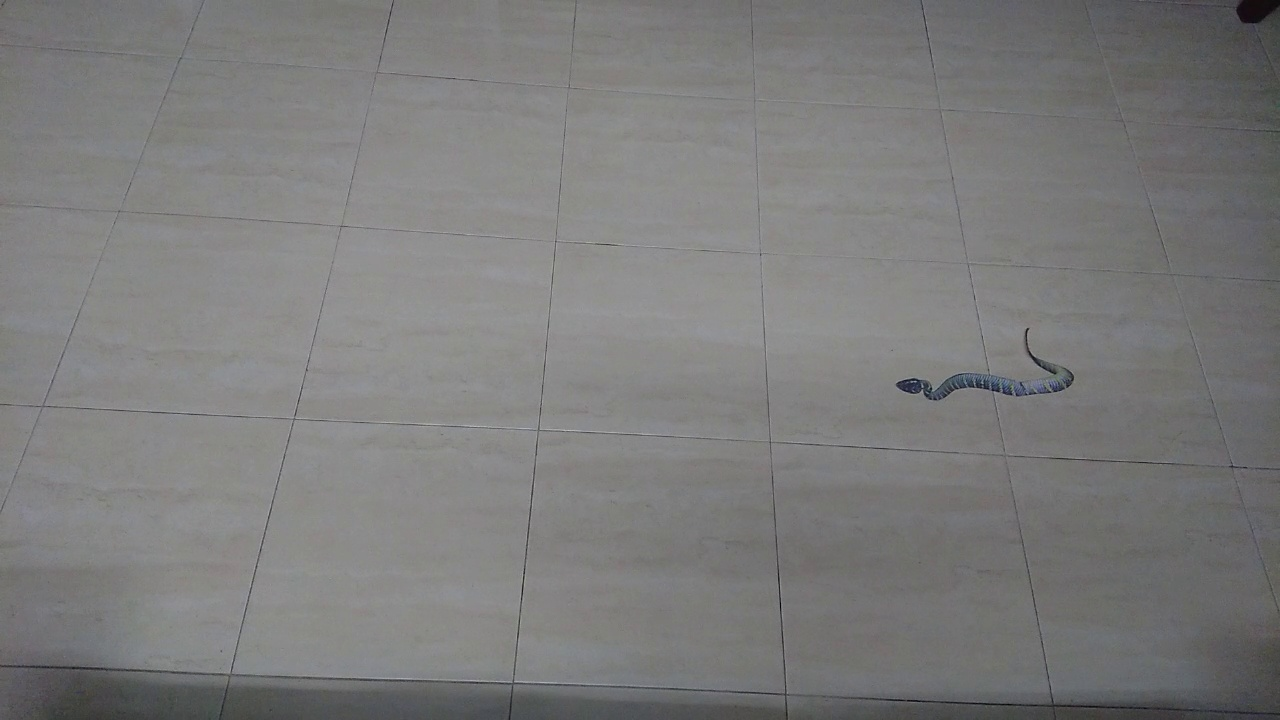snake: (879, 310, 1090, 427)
